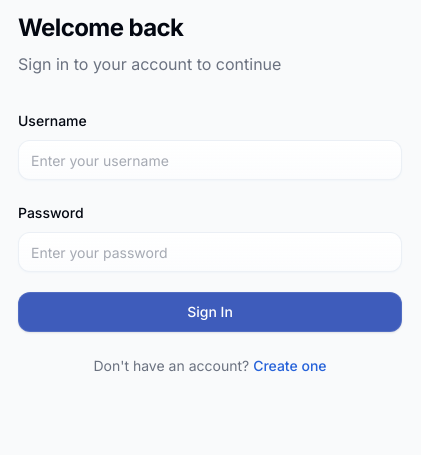
Test: LoginPage › displays generic error when no detail in response
This screenshot has width=421, height=455.
Type "testuser" into the field labelled "Username".
click(210, 160); type("testuser")  # box top-left (18, 140), bottom-right (402, 180)
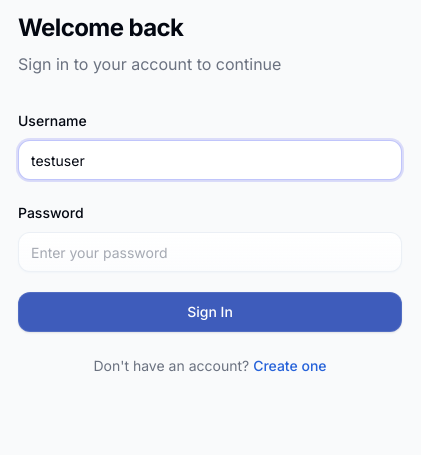
Type "pass" into the password field labelled "Password".
click(210, 252); type("pass")  # box top-left (18, 232), bottom-right (402, 272)
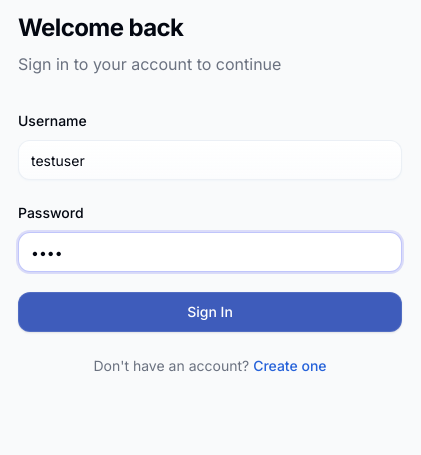
Click the button "Sign In".
click(210, 312)  # box top-left (18, 292), bottom-right (402, 332)
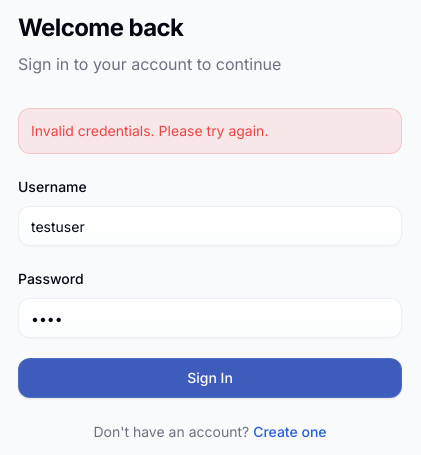
expect the text "Invalid credentials. Please try again." is shown: met, box top-left (31, 122), bottom-right (268, 139)
